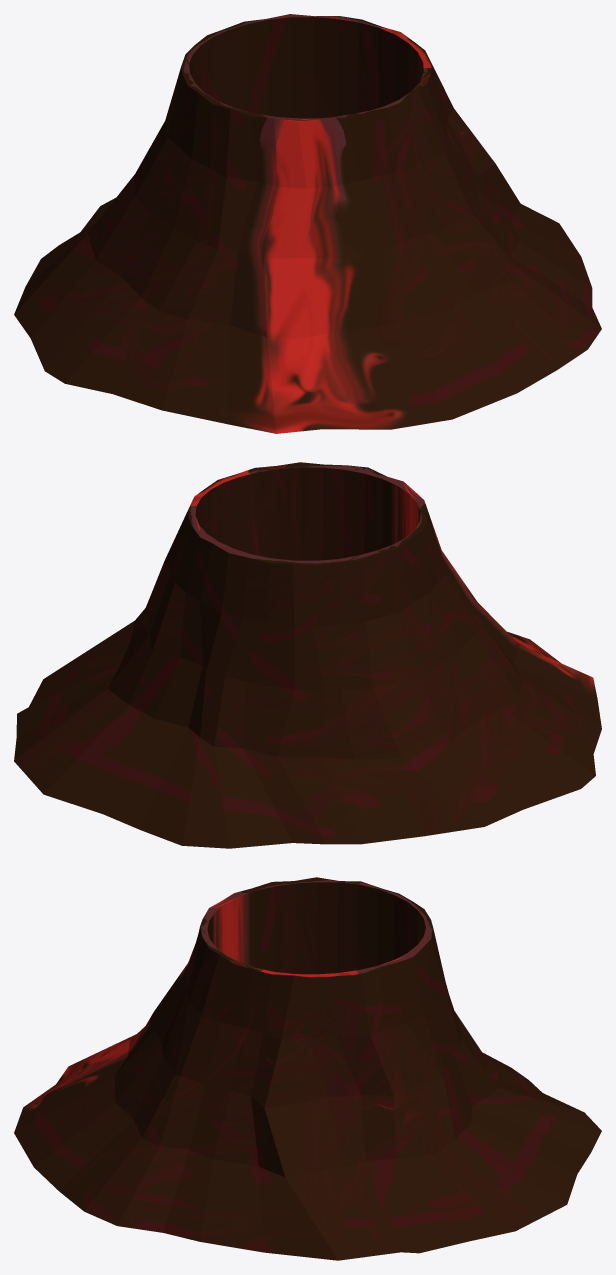
Rendered from volcano3.gltf.
3 views of the same model, one above another, from view 1: azimuth 30°, elevation 25°; view 2: azimuth 150°, elevation 25°; view 3: azimuth 270°, elevation 25° (orthographic). The views are drawn at different scales.
Visible parts, largest first — view 1: Cylinder; view 2: Cylinder; view 3: Cylinder.
Part boxes in pixels (x1,y1,x2,y2): Cylinder: [14, 14, 601, 433]; Cylinder: [14, 462, 601, 848]; Cylinder: [14, 877, 601, 1260].
Bounding box in the file's own units: 17.78 × 7.29 × 18.11.
1 material, 1 textured.
